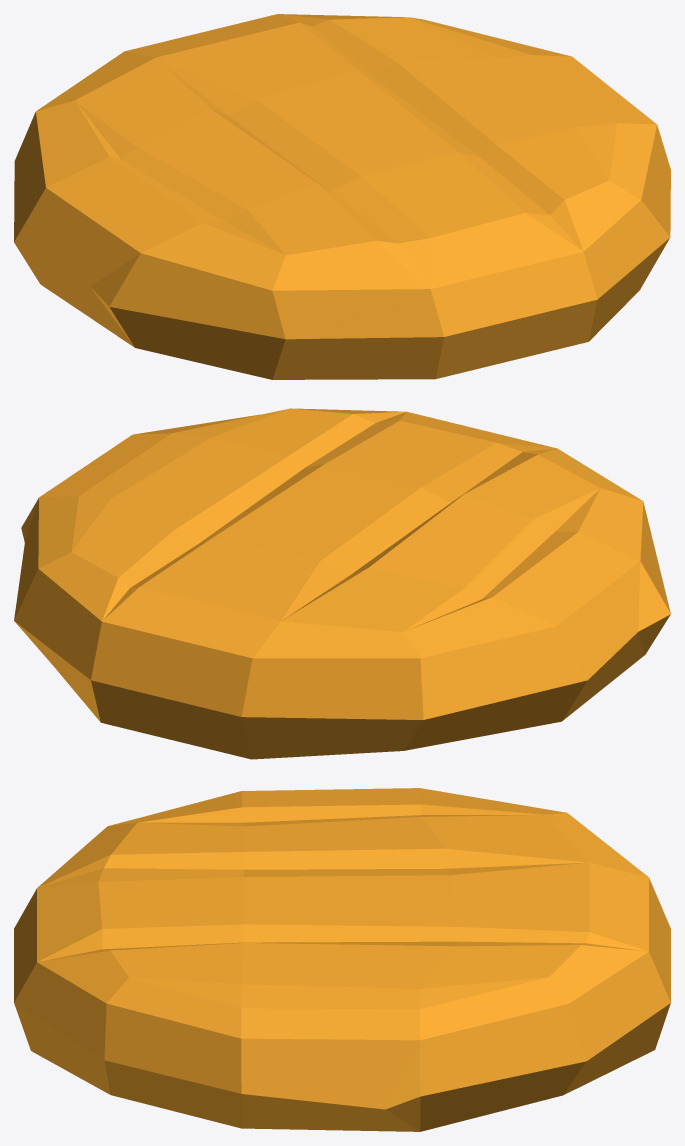
The model's file is SM_Meat_Burger_Grilled.fbx.
3 views of the same model, one above another, from view 1: azimuth 30°, elevation 25°; view 2: azimuth 150°, elevation 25°; view 3: azimuth 270°, elevation 25° (orthographic).
Parts seen in each view (by area): view 1: meat-burger-grilled; view 2: meat-burger-grilled; view 3: meat-burger-grilled.
Part boxes in pixels (x1,y1,x2,y2): meat-burger-grilled: (14, 14, 670, 379); meat-burger-grilled: (14, 408, 670, 759); meat-burger-grilled: (14, 788, 670, 1131).
Size of the model in its own units: 0.1655 by 0.034 by 0.1598.
